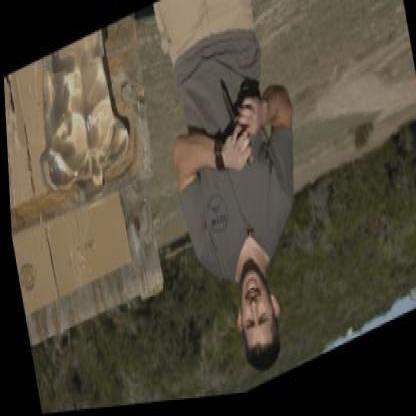knife: (214, 70, 253, 184)
